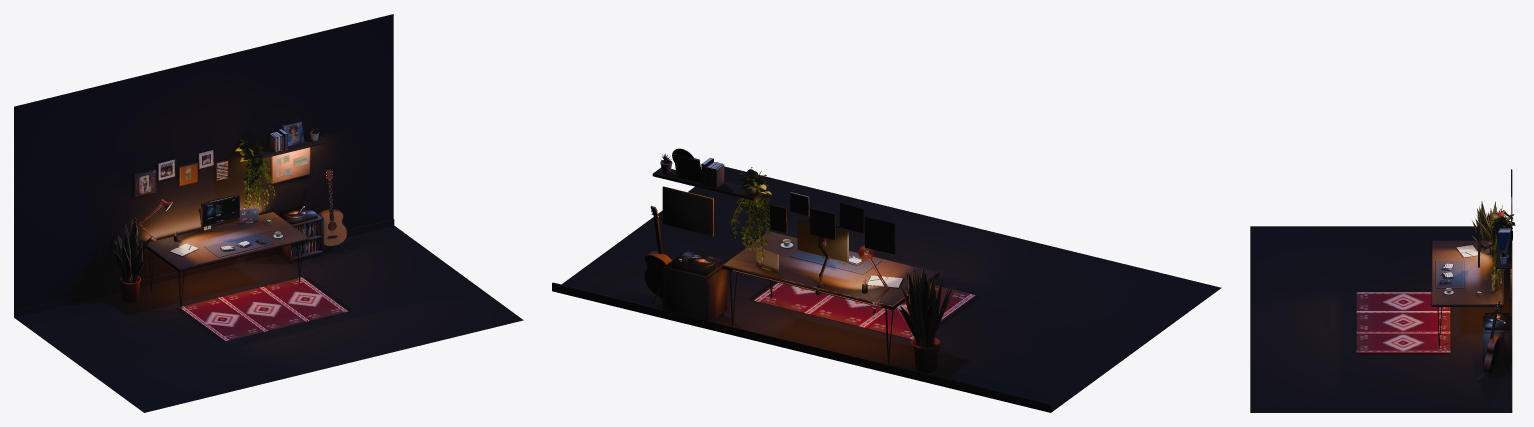
The model's file is room.glb.
3 renders of one model, left to right at view 1: azimuth 30°, elevation 25°; view 2: azimuth 150°, elevation 25°; view 3: azimuth 270°, elevation 25°, orthographic. The views are drawn at different scales.
Parts seen in each view (by area): view 1: room, rug, desk, decor, art, plant, records, guitar, monitor; view 2: room, desk, art, decor, rug, records, plant, monitor, guitar; view 3: room, rug, desk, decor, records, guitar, plant.
Boxes of the visible parts, left/top/right/bottom form: room: left=14, top=14, right=523, bottom=412; rug: left=178, top=277, right=349, bottom=341; desk: left=143, top=212, right=308, bottom=311; decor: left=169, top=116, right=325, bottom=256; art: left=133, top=147, right=310, bottom=197; plant: left=113, top=217, right=152, bottom=302; records: left=275, top=205, right=323, bottom=263; guitar: left=319, top=169, right=347, bottom=255; monitor: left=198, top=194, right=239, bottom=231; room: left=552, top=166, right=1221, bottom=412; desk: left=722, top=231, right=939, bottom=363; art: left=662, top=186, right=895, bottom=254; decor: left=652, top=148, right=903, bottom=293; rug: left=753, top=279, right=976, bottom=339; records: left=663, top=251, right=727, bottom=320; plant: left=899, top=264, right=954, bottom=373; monitor: left=797, top=219, right=848, bottom=295; guitar: left=644, top=206, right=671, bottom=306; room: left=1250, top=226, right=1512, bottom=412; rug: left=1356, top=291, right=1450, bottom=352; desk: left=1431, top=240, right=1503, bottom=348; decor: left=1444, top=212, right=1515, bottom=294; records: left=1482, top=312, right=1511, bottom=370; guitar: left=1477, top=300, right=1504, bottom=381; plant: left=1472, top=201, right=1502, bottom=240.
Size of the model in its own units: 6.4 by 3.4 by 3.91.
Materials: 12 (12 with a texture image).
